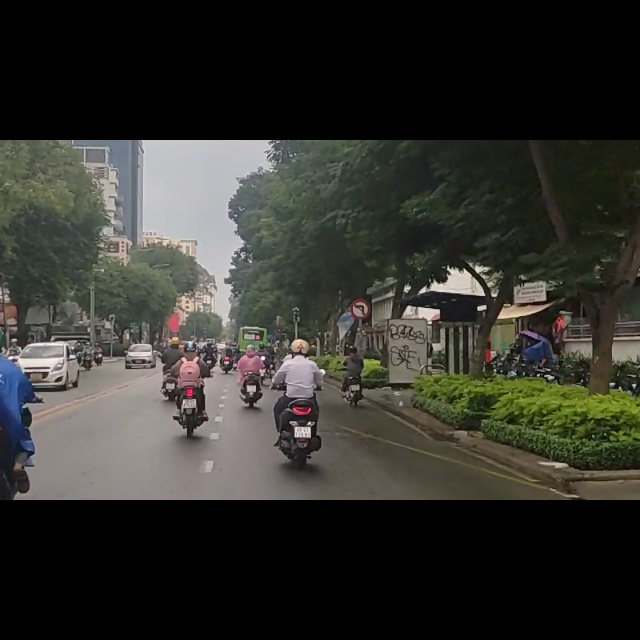bien_hieu_lenh: (351, 283, 371, 319)
